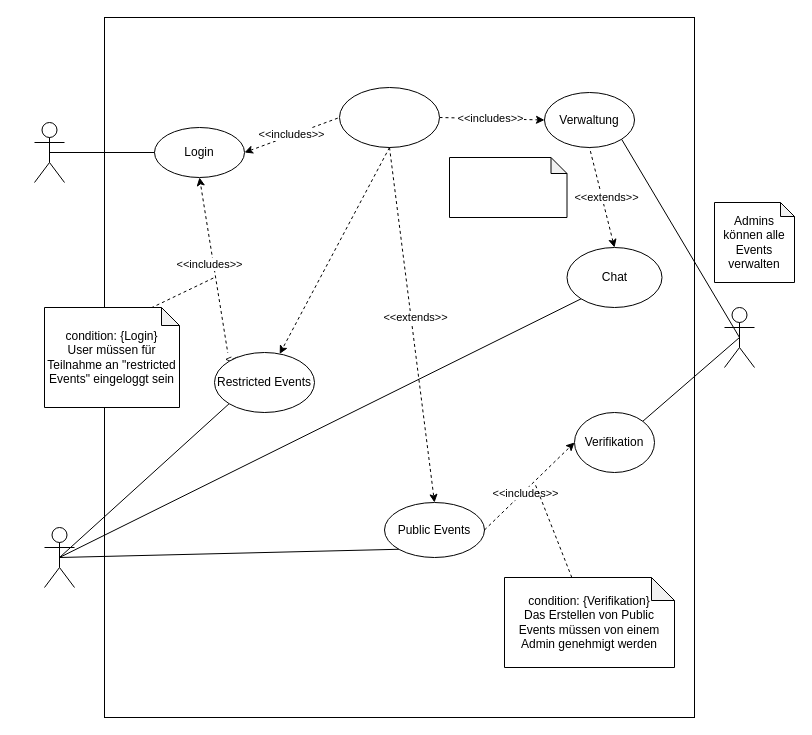
This 812x735 diagram has some shape labels left out. Each missing label, with the box of its shape:
Admin: (724, 306, 754, 368)
Der Veranstalter kann einen Chat (de)aktivieren: (448, 156, 567, 218)
Event Erstellung: (338, 86, 440, 148)
Teilnehmer: (44, 526, 74, 588)
Veranstalter: (34, 122, 64, 182)
